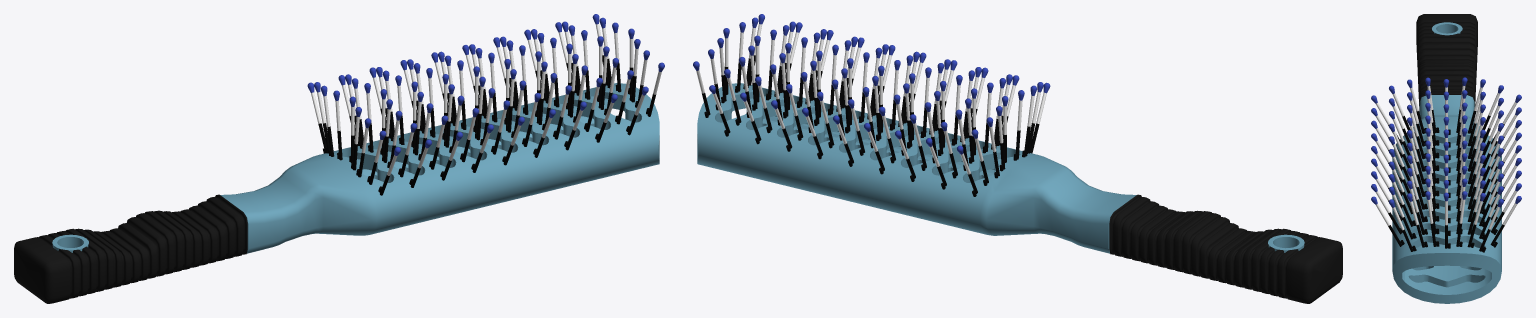
Rendered from comb__brush.glb.
3 renders of one model, left to right at view 1: azimuth 30°, elevation 25°; view 2: azimuth 150°, elevation 25°; view 3: azimuth 270°, elevation 25°, orthographic. The views are drawn at different scales.
Visible parts, largest first — view 1: F6002CEP, F6002PUA; view 2: F6002CEP, F6002PUA; view 3: F6002CEP, F6002PUA.
Part boxes in pixels (box(x1,y1,x2,y2)): F6002CEP: box(14, 83, 659, 303); F6002PUA: box(307, 14, 664, 195); F6002CEP: box(697, 83, 1342, 303); F6002PUA: box(693, 14, 1050, 196); F6002CEP: box(1392, 14, 1501, 303); F6002PUA: box(1371, 77, 1521, 252).
Bounding box in the file's own units: 214 × 42.32 × 54.56.
